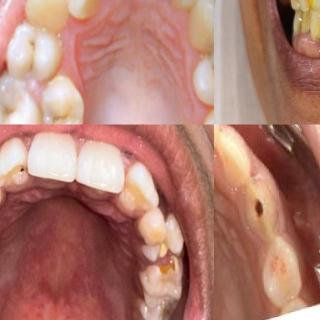calculus: (316, 26, 320, 48)
cavities: (143, 256, 181, 294), (156, 235, 180, 261), (157, 293, 178, 320), (204, 37, 214, 77), (255, 201, 263, 217)
maligned: (110, 166, 163, 228), (127, 207, 171, 257), (48, 70, 88, 124), (0, 146, 26, 197), (22, 0, 68, 26), (65, 0, 99, 20)
stains: (296, 10, 311, 36), (302, 0, 316, 12)
